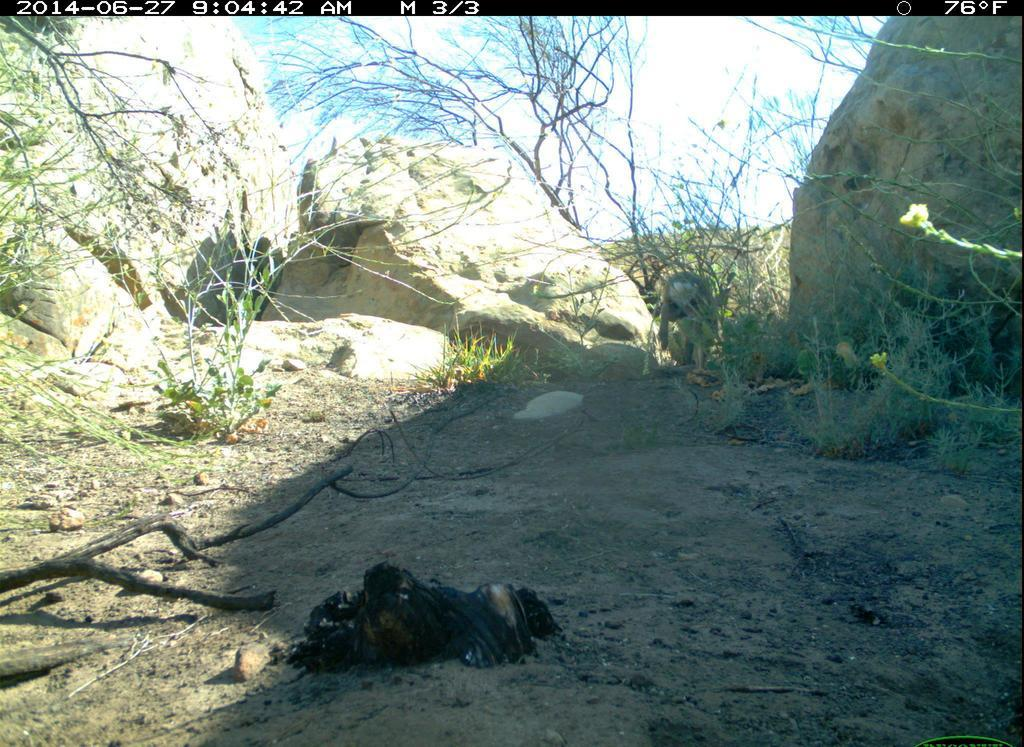rabbit: (646, 262, 739, 385)
